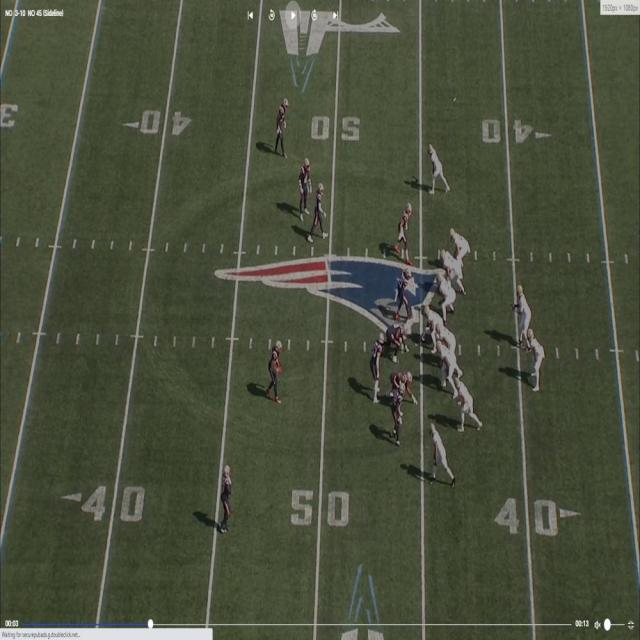center: (418, 303, 438, 349)
db: (300, 153, 313, 220), (391, 384, 404, 444), (224, 460, 235, 528), (271, 339, 283, 401), (315, 178, 327, 236), (276, 97, 287, 155)
lb: (372, 341, 386, 408), (399, 204, 414, 254)
qb: (517, 287, 534, 347)
skill: (455, 378, 478, 432), (527, 331, 544, 393), (430, 425, 447, 482), (428, 146, 446, 196), (449, 224, 472, 263)
